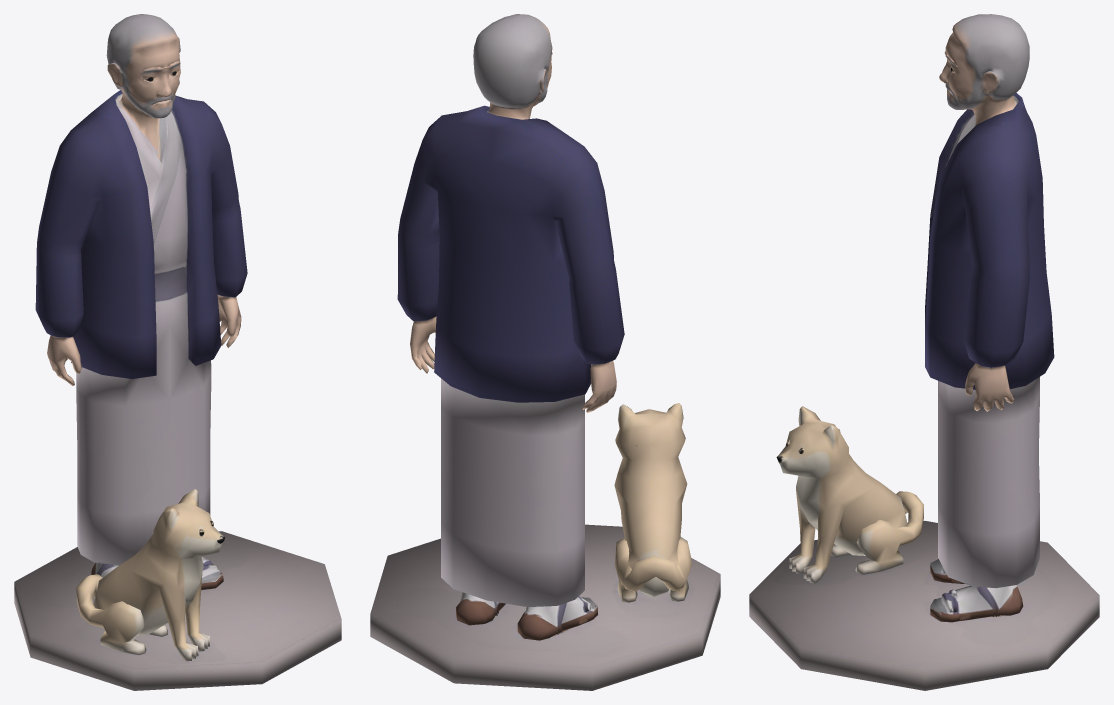
The model's file is original_glb.glb.
The picture shows the model from 3 angles, left to right: view 1: azimuth 30°, elevation 25°; view 2: azimuth 150°, elevation 25°; view 3: azimuth 270°, elevation 25°; orthographic projection. The views are drawn at different scales.
Visible parts, largest first — view 1: Resident with dog; view 2: Resident with dog; view 3: Resident with dog.
Boxes of the visible parts, x1,y1,x2,y2 form: Resident with dog: (14,14,341,690); Resident with dog: (370,14,720,690); Resident with dog: (749,14,1099,690).
Bounding box in the file's own units: 0.5293 × 0.998 × 0.5293.
Materials: 1 (1 with a texture image).
